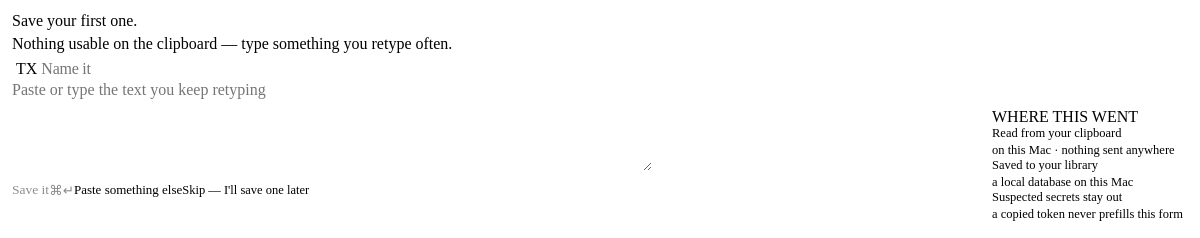
Test: FirstSnippetStep › starts empty when the clipboard offers nothing usable
Expected: the text "Nothing usable on the clipboard" is shown, [12, 35, 452, 52]
Expected: the button "Save it ⌘↵" is disabled, [12, 171, 74, 209]
Type "kubectl get pods" into the text box named "Snippet content" at (332, 126), box [12, 81, 652, 171]
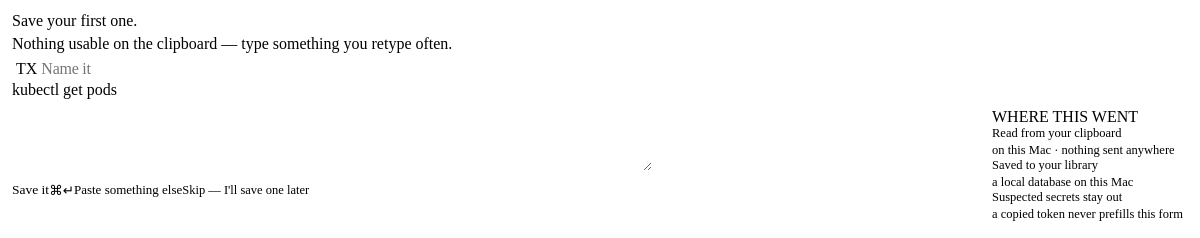
Expected: the button "Save it ⌘↵" is enabled, [12, 171, 74, 209]
